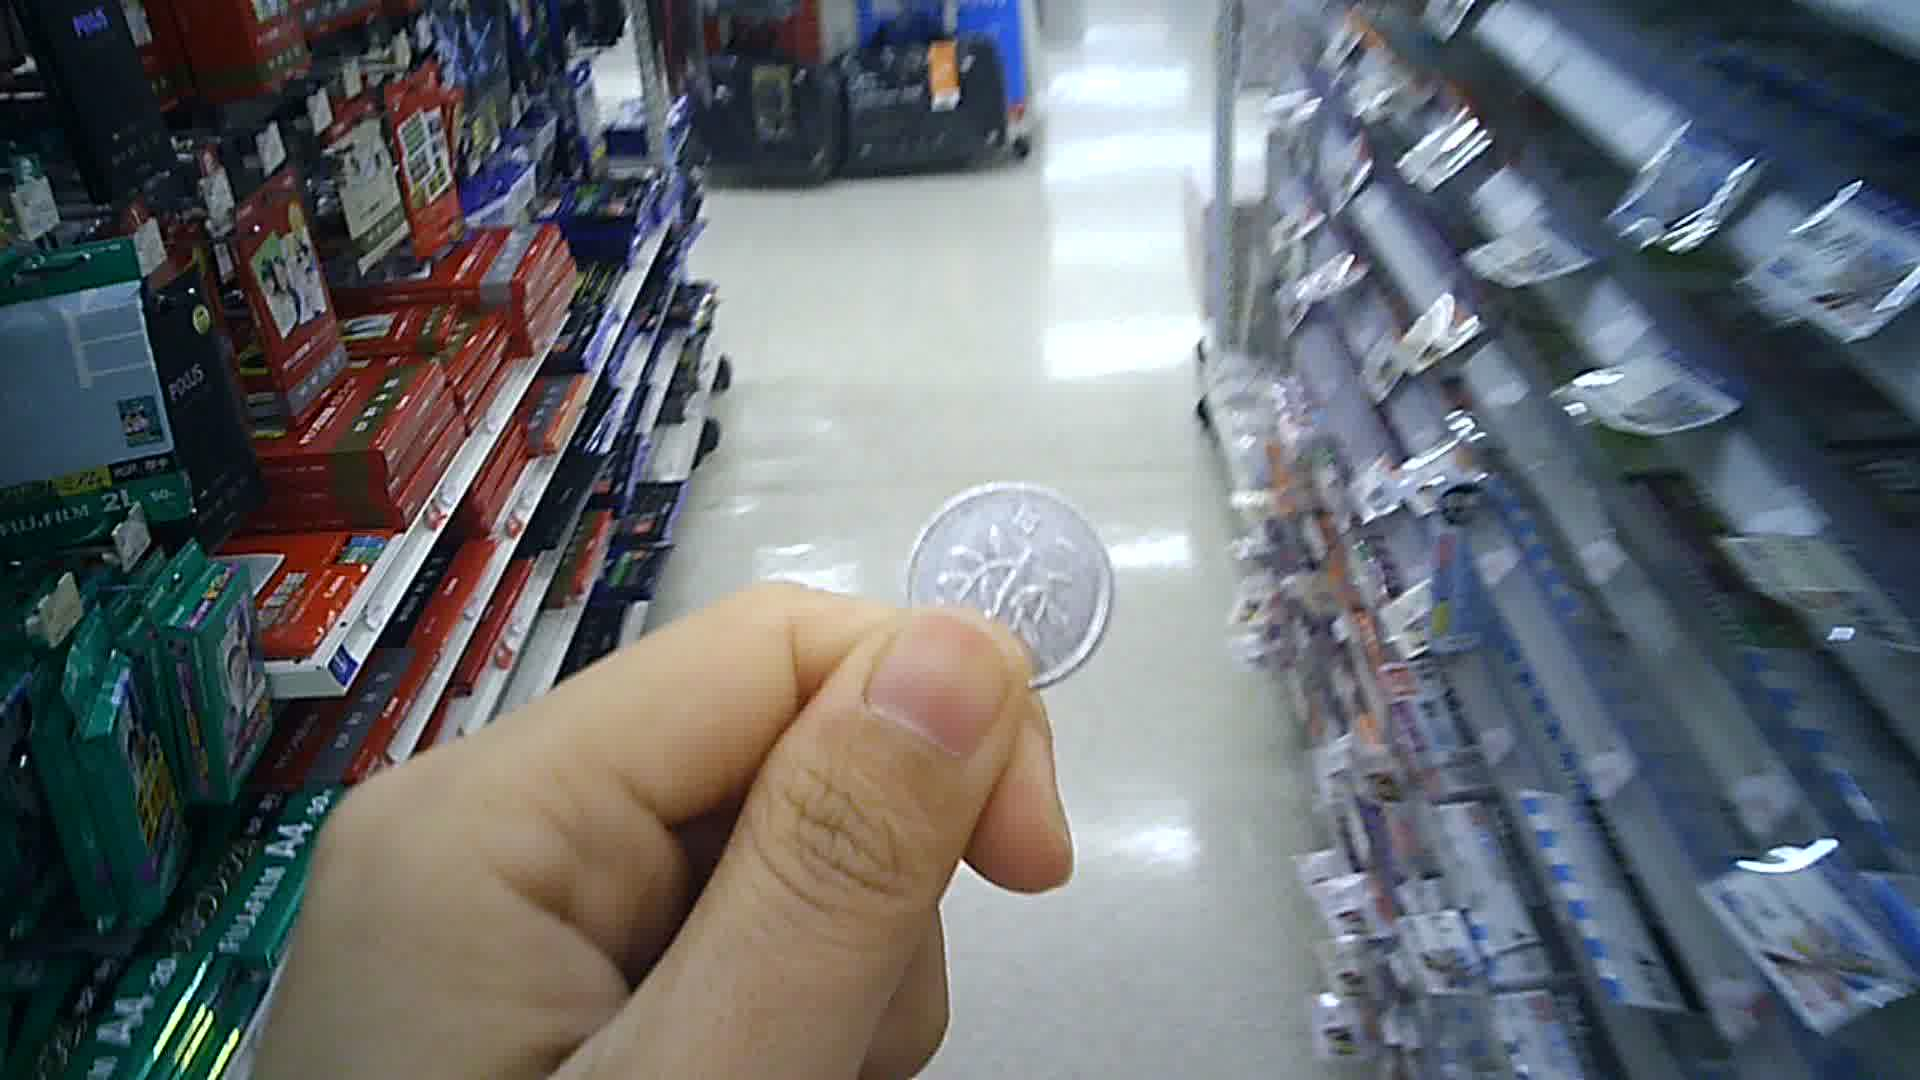1 Yen: (895, 477, 1120, 687)
